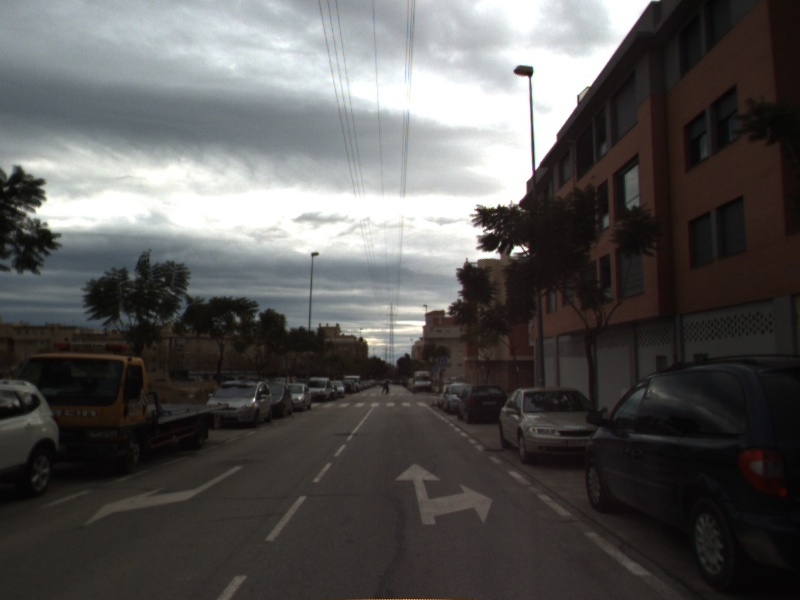STRAIGHT_RIGHT: (393, 461, 495, 526)
